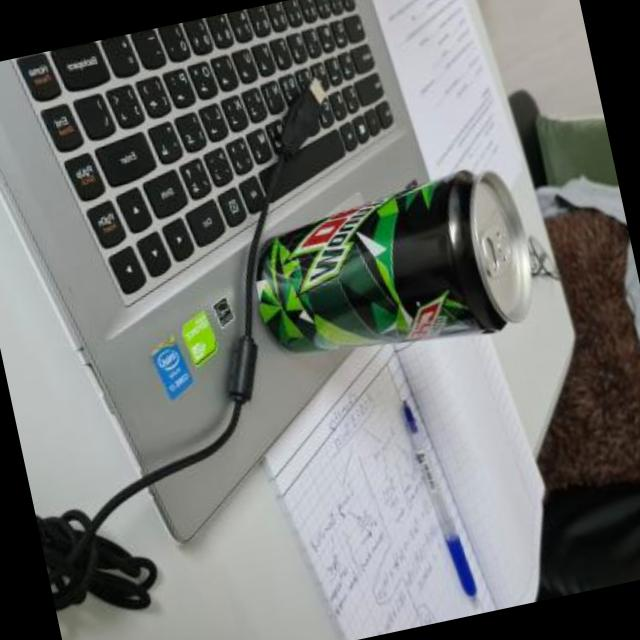cardboard paper: (276, 359, 494, 640), (399, 338, 542, 610)
metal: (255, 172, 535, 353)
